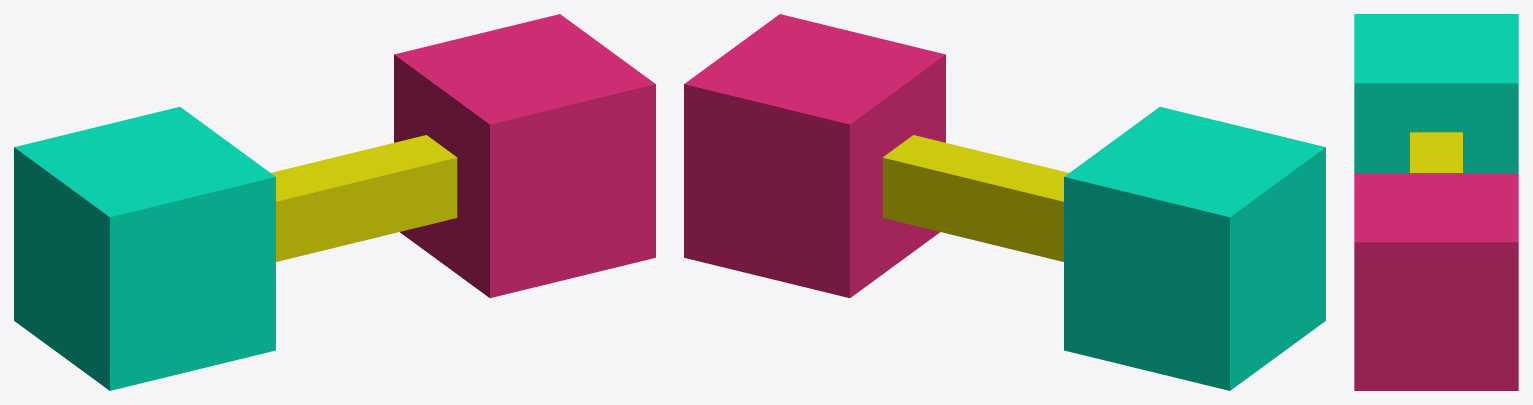
Rendered from multiple-mesh.fbx.
The picture shows the model from 3 angles, left to right: view 1: azimuth 30°, elevation 25°; view 2: azimuth 150°, elevation 25°; view 3: azimuth 270°, elevation 25°; orthographic projection. The views are drawn at different scales.
Visible parts, largest first — view 1: Cube.001, Cube.000, Cube.002; view 2: Cube.001, Cube.000, Cube.002; view 3: Cube.000, Cube.001, Cube.002.
Part boxes in pixels (x1,y1,x2,y2): Cube.001: [14, 107, 275, 390]; Cube.000: [394, 14, 655, 297]; Cube.002: [271, 135, 457, 261]; Cube.001: [1064, 107, 1325, 390]; Cube.000: [684, 14, 945, 297]; Cube.002: [882, 135, 1068, 261]; Cube.000: [1354, 173, 1518, 390]; Cube.001: [1354, 14, 1518, 172]; Cube.002: [1410, 132, 1462, 172].
Size of the model in its own units: 658 by 200 by 200.
